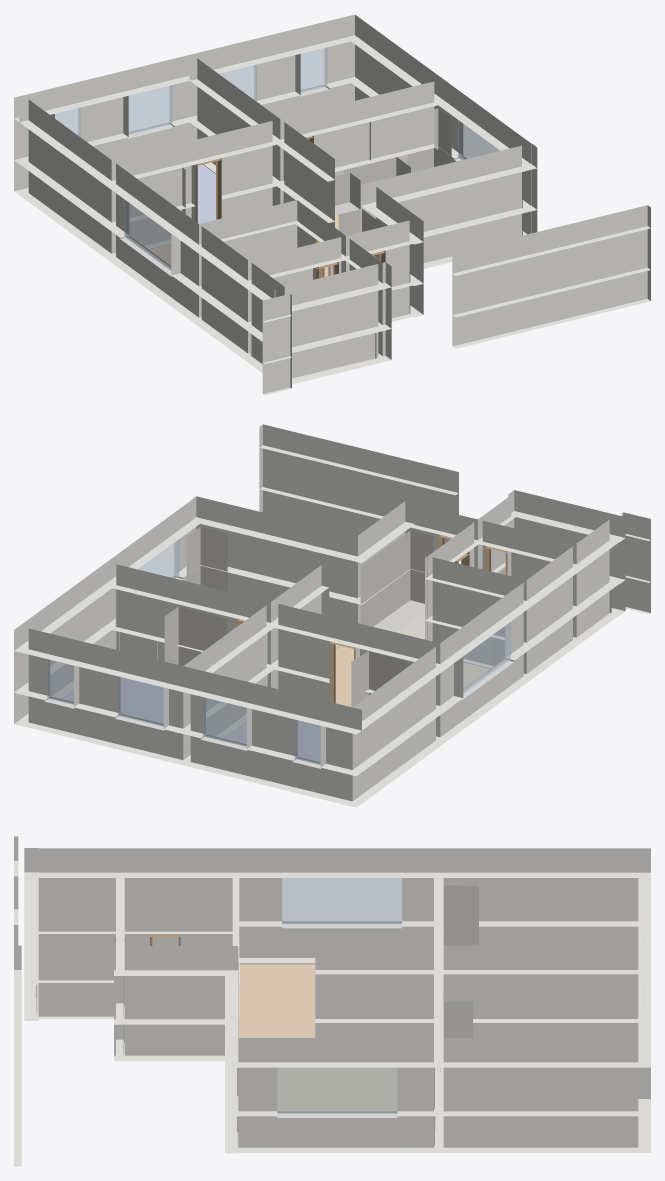
The picture shows the model from 3 angles, top to bottom: view 1: azimuth 30°, elevation 25°; view 2: azimuth 150°, elevation 25°; view 3: azimuth 270°, elevation 25°; orthographic projection. The views are drawn at different scales.
Parts seen in each view (by area): view 1: walls, window_6, window_0, window_3, furniture_5_appliance, floor_0_Bed_Room, furniture_4_closet, furniture_11_sink, window_5, furniture_2_closet, window_1, furniture_6_appliance; view 2: walls, furniture_4_closet, furniture_1_closet, furniture_3_closet, window_1, window_6, furniture_0_closet, window_0, floor_1_Bed_Room, floor_2_Living_Room, floor_0_Bed_Room, window_3 (+2 smaller); view 3: walls, floor_2_Living_Room, window_5, window_6, floor_3_Kitchen, furniture_0_closet, furniture_1_closet, sill_5, sill_6.
Boxes of the visible parts, x1,y1,x2,y2 form: walls: (14,14,650,395); window_6: (124,195,171,270); window_0: (128,85,172,134); window_3: (298,47,327,92); furniture_5_appliance: (344,157,410,209); floor_0_Bed_Room: (197,164,215,223); furniture_4_closet: (338,209,410,318); furniture_11_sink: (335,172,360,215); window_5: (458,116,503,159); furniture_2_closet: (434,108,451,163); window_1: (218,63,256,101); furniture_6_appliance: (407,148,448,172); walls: (14,424,650,807); furniture_4_closet: (360,530,433,632); furniture_1_closet: (164,606,227,665); furniture_3_closet: (186,527,227,591); window_1: (117,676,163,726); window_6: (458,618,510,693); furniture_0_closet: (351,651,412,707); window_0: (203,697,246,746); floor_1_Bed_Room: (62,677,163,723); floor_2_Living_Room: (335,645,490,706); floor_0_Bed_Room: (224,720,320,761); window_3: (47,659,76,704); walls: (14,836,650,1166); floor_2_Living_Room: (239,963,315,1037); window_5: (277,1067,397,1113); window_6: (282,875,401,924); floor_3_Kitchen: (277,1068,396,1110); furniture_0_closet: (443,885,478,945); furniture_1_closet: (440,1001,472,1071); sill_5: (277,1111,397,1117); sill_6: (282,922,401,928).
Bounding box in the file's own units: 11.66 × 2.72 × 14.21.
